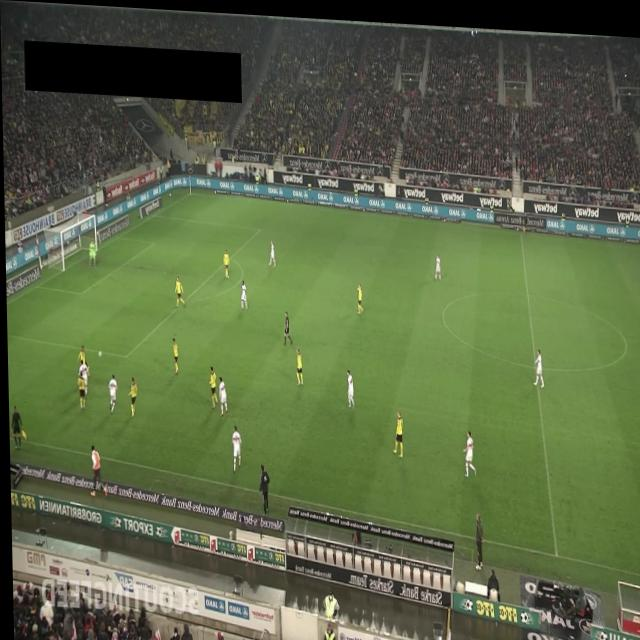goalkeeper: (87, 237, 96, 267)
player: (460, 424, 475, 473), (391, 405, 402, 453), (229, 422, 240, 470), (531, 342, 543, 381), (125, 375, 136, 417), (216, 373, 226, 415), (207, 362, 216, 407), (107, 372, 117, 412), (76, 358, 87, 393), (173, 273, 184, 306), (75, 371, 84, 410), (294, 343, 302, 382), (345, 365, 353, 404), (171, 335, 177, 373), (222, 246, 229, 277), (267, 237, 275, 264), (75, 345, 85, 365), (356, 278, 362, 311), (240, 277, 246, 307), (433, 247, 439, 275)
referee: (9, 405, 25, 450), (281, 308, 292, 342), (521, 204, 528, 228)
